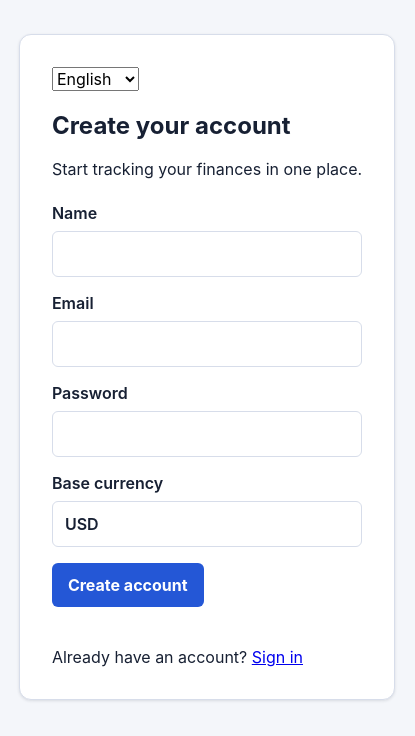
Test case: shows a retry-later message when registration is rate limited
Type "Test User" into the field labelled "Name" at (207, 254), box left=52, top=231, right=362, bottom=277
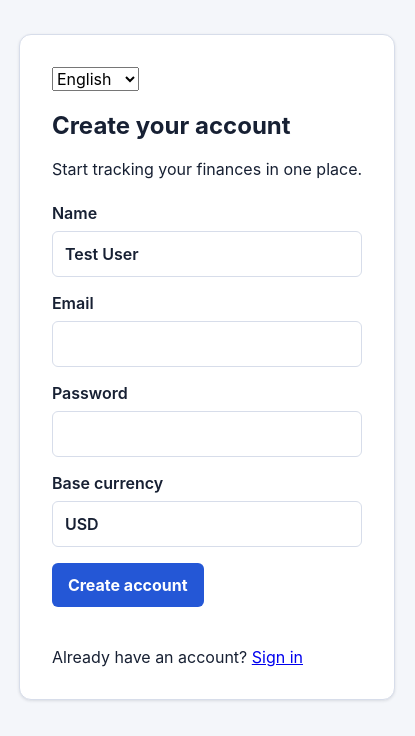
Type "person@example.test" into the field labelled "Email" at (207, 344), box left=52, top=321, right=362, bottom=367
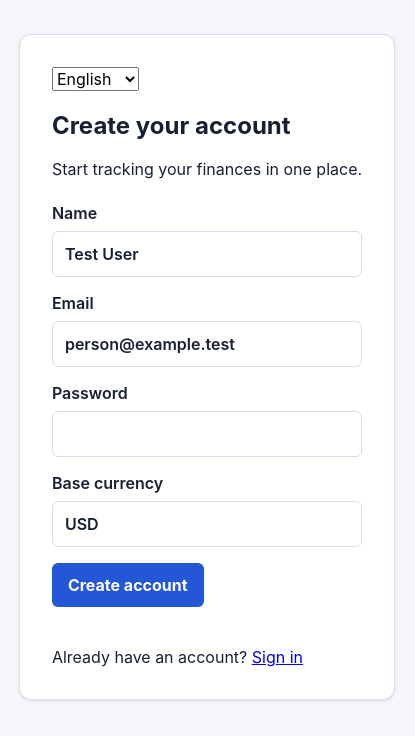
Type "password-for-testing" into the password field labelled "Password" at (207, 434), box left=52, top=411, right=362, bottom=457
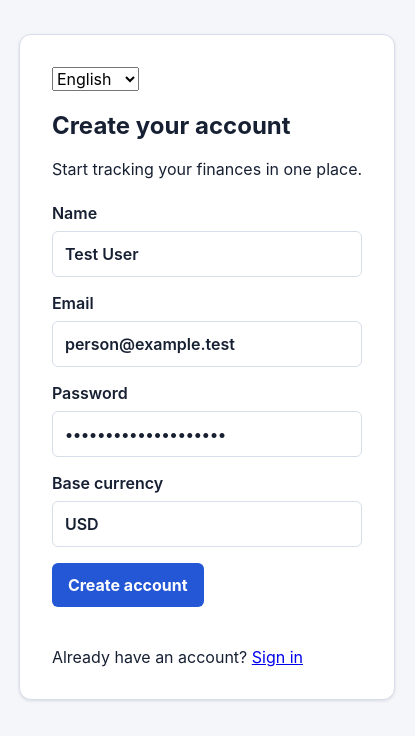
Click the button "Create account" at (128, 585), box left=52, top=563, right=204, bottom=607
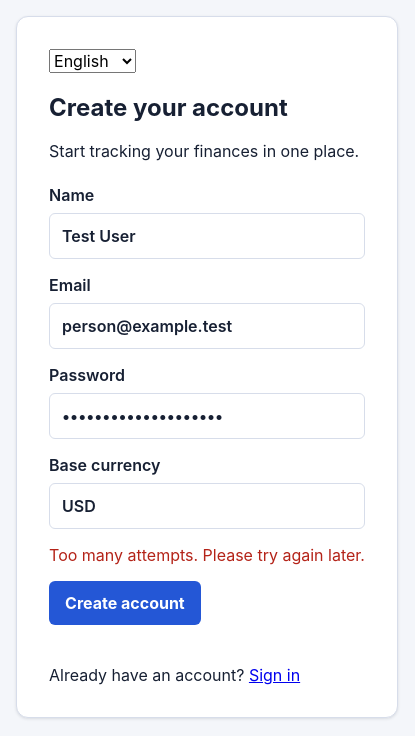
Now the text "Too many attempts. Please try again later." is shown, box left=49, top=545, right=365, bottom=565
